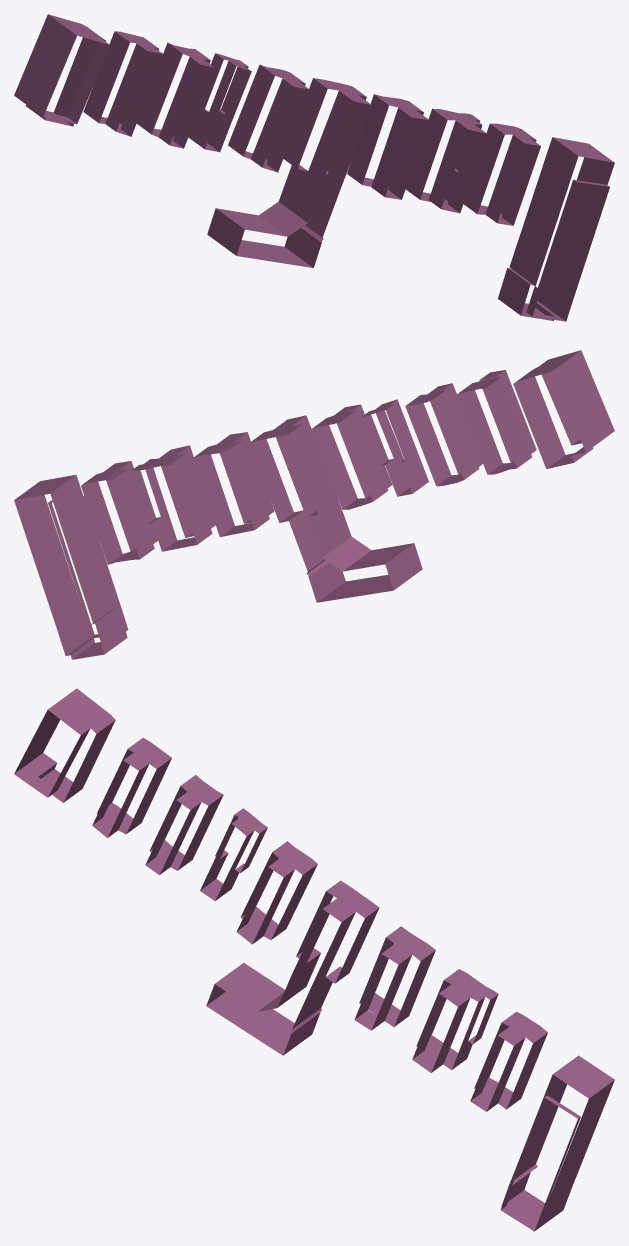
The model's file is Wall_Hini_0.0_Slope_2.5.obj.
3 views of the same model, one above another, from view 1: azimuth 30°, elevation 25°; view 2: azimuth 150°, elevation 25°; view 3: azimuth 330°, elevation 25° (orthographic).
Visible parts, largest first — view 1: 6, 1, 2, 5, 4, 8, 10, 3, 9, 7; view 2: 6, 1, 2, 5, 4, 10, 8, 9, 3, 7; view 3: 6, 1, 2, 5, 4, 3, 8, 10, 9, 7.
Boxes of the visible parts, x1=… form: 6: x1=207, y1=78, x2=372, y2=267; 1: x1=498, y1=137, x2=614, y2=321; 2: x1=14, y1=14, x2=110, y2=126; 5: x1=406, y1=108, x2=486, y2=213; 4: x1=347, y1=94, x2=429, y2=199; 8: x1=228, y1=64, x2=309, y2=172; 10: x1=83, y1=31, x2=162, y2=136; 3: x1=463, y1=123, x2=540, y2=225; 9: x1=136, y1=42, x2=214, y2=148; 7: x1=188, y1=53, x2=251, y2=152; 6: x1=249, y1=415, x2=422, y2=602; 1: x1=14, y1=474, x2=128, y2=659; 2: x1=513, y1=350, x2=614, y2=468; 5: x1=130, y1=445, x2=215, y2=551; 4: x1=193, y1=432, x2=274, y2=536; 10: x1=457, y1=370, x2=536, y2=474; 8: x1=311, y1=404, x2=392, y2=509; 9: x1=405, y1=383, x2=482, y2=486; 3: x1=81, y1=461, x2=157, y2=564; 7: x1=361, y1=399, x2=428, y2=496; 6: x1=206, y1=880, x2=379, y2=1055; 1: x1=501, y1=1055, x2=614, y2=1231; 2: x1=14, y1=688, x2=115, y2=802; 5: x1=412, y1=969, x2=498, y2=1072; 4: x1=354, y1=926, x2=435, y2=1030; 3: x1=470, y1=1011, x2=547, y2=1111; 8: x1=236, y1=841, x2=317, y2=944; 10: x1=92, y1=737, x2=171, y2=837; 9: x1=145, y1=775, x2=223, y2=874; 7: x1=200, y1=808, x2=267, y2=900.
Bounding box in the file's own units: 136 × 92 × 11.99.
